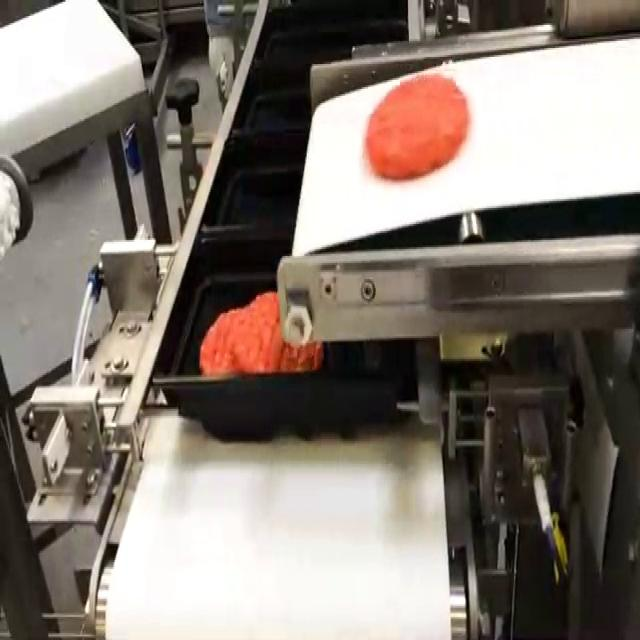hamburguer: (364, 75, 469, 180)
